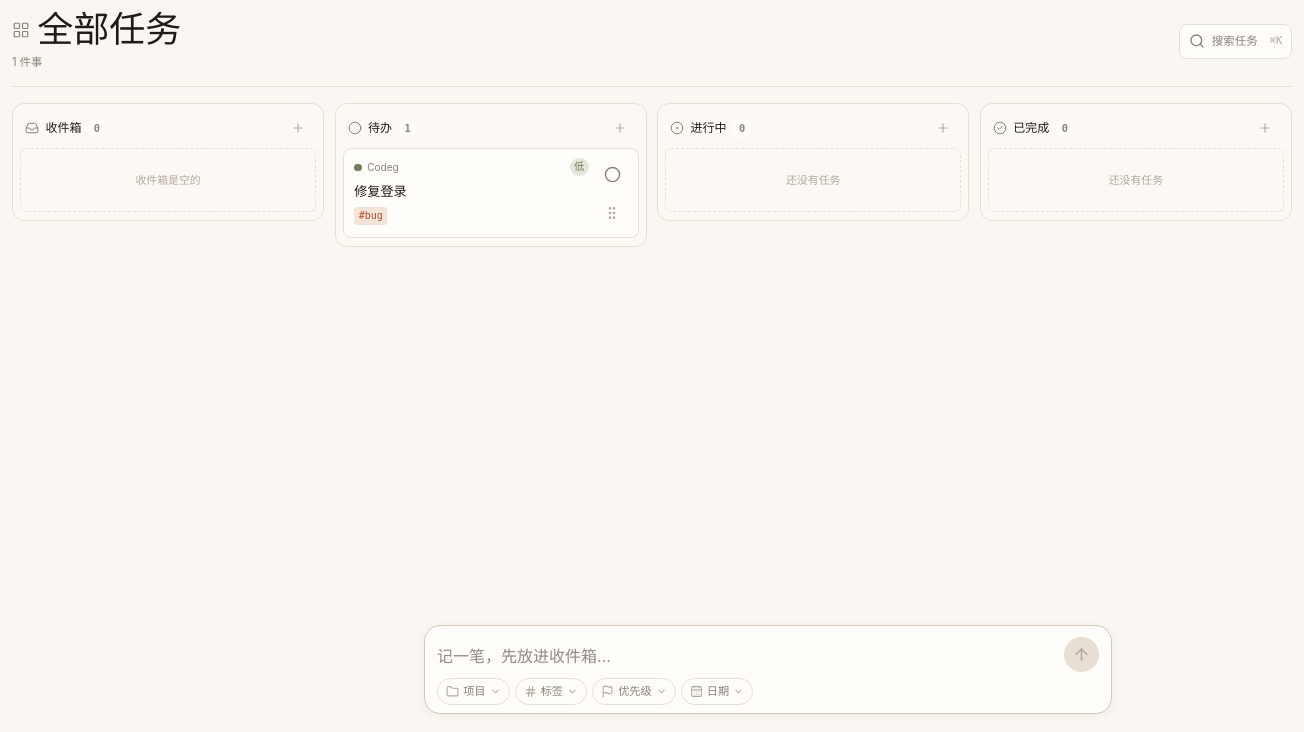
Scenario: moves a task via its status control and restores the previous state on failure
Select "进行中" in the dropdown named "更改状态：修复登录". click: point(612, 175)
box: [595,158,629,192]
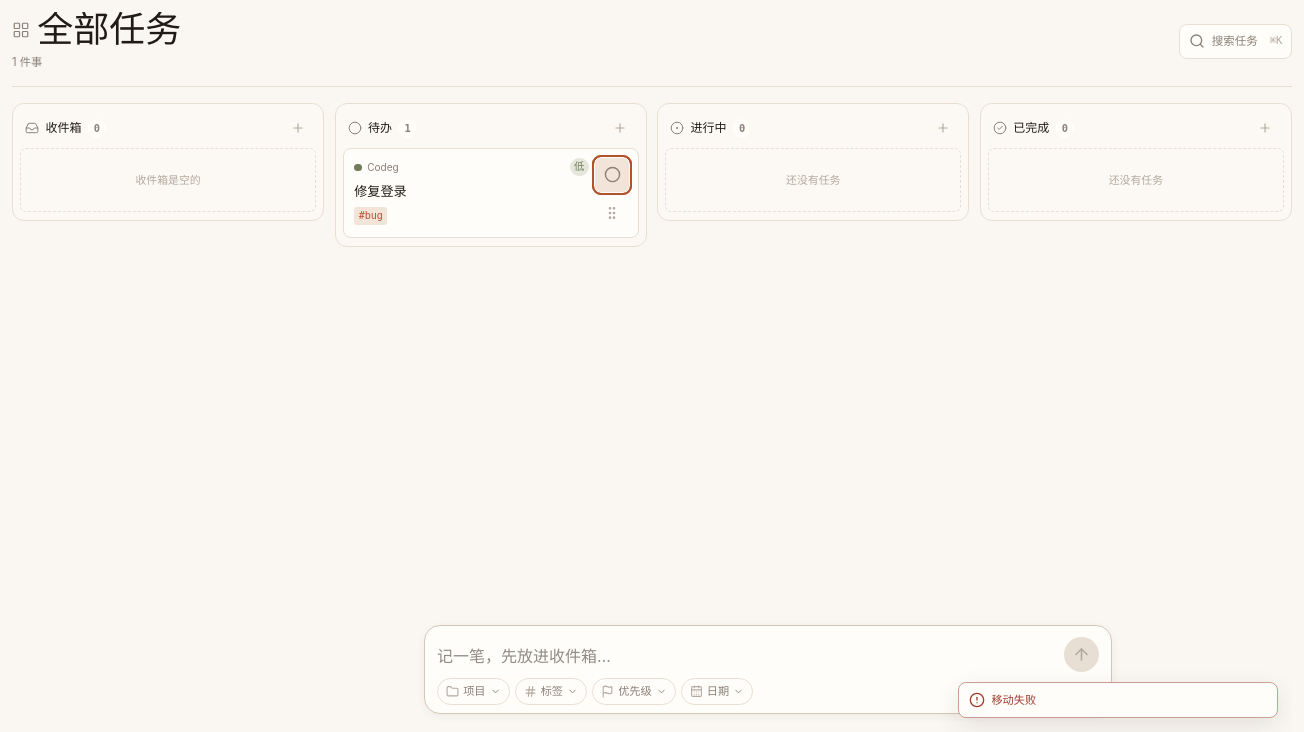
Expected: the text "移动失败" is shown, [991,692,1036,708]
